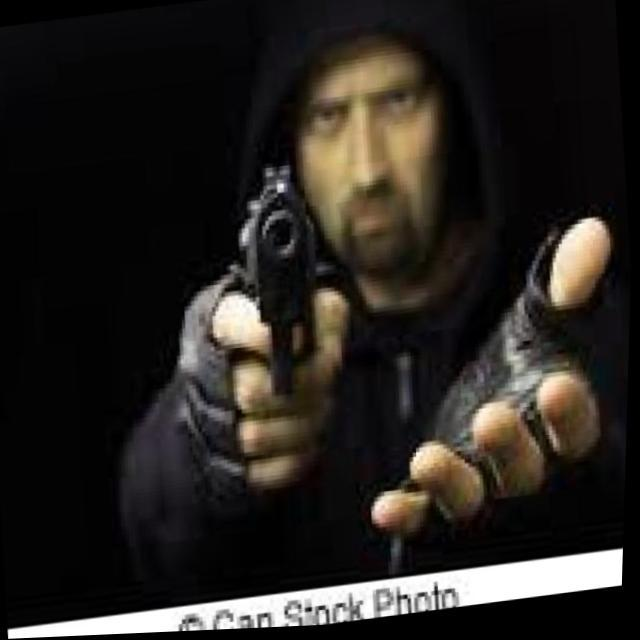weapon: (232, 162, 332, 402)
